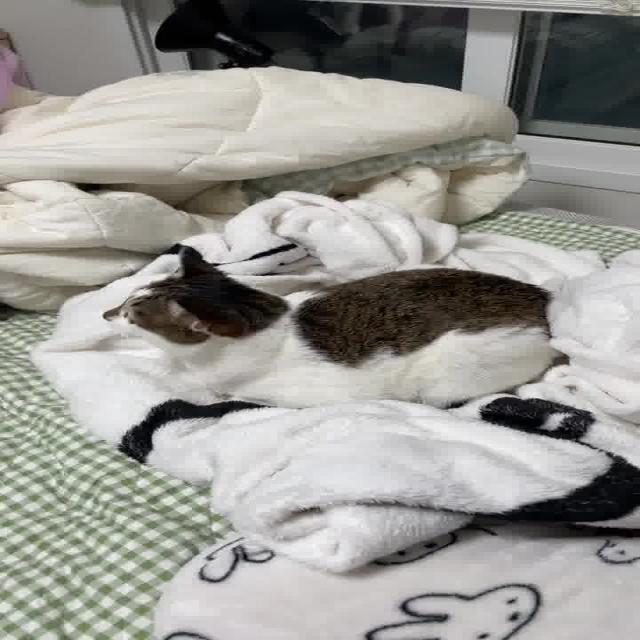cat: (82, 234, 597, 415)
